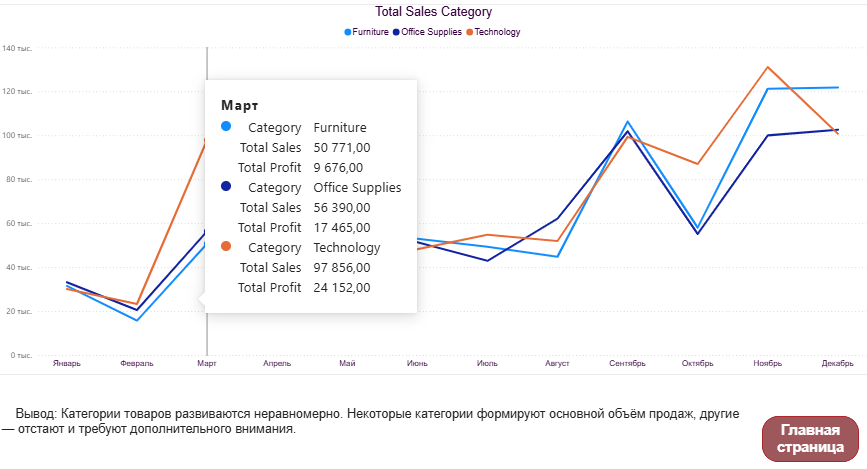

This screenshot's page, from the dashboard's own definition file:
{"tool":"powerbi","page":{"name":"Продажи по категориям","canvas":[1280,720],"ordinal":2},"visuals":[{"type":"lineChart","title":"Total Sales Category","fields":{"Y":["Sample.Total Sales"],"Category":["Sample.Order Date.Изменение.Иерархия дат.Месяц"],"Series":["Sample.Category"]},"box":[0,30.1,1280.3,544.6],"z":0},{"type":"textbox","box":[0,615.7,1102,76.4],"z":1000},{"type":"actionButton","box":[1122.6,634.8,142.5,67.6],"z":2000}]}

Visuals, with their boxes on the page's 1280x720 design canvas (x1, y1, x2, y2). These are canvas units, not pixel positions in the 867x469 screenshot, which may show the page scaled, cropped or inside an application window:
"Total Sales Category" lineChart: box(0, 30, 1280, 575)
textbox: box(0, 616, 1102, 692)
actionButton: box(1123, 635, 1265, 702)
